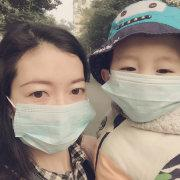OK: (15, 76, 91, 152), (108, 53, 180, 122)
